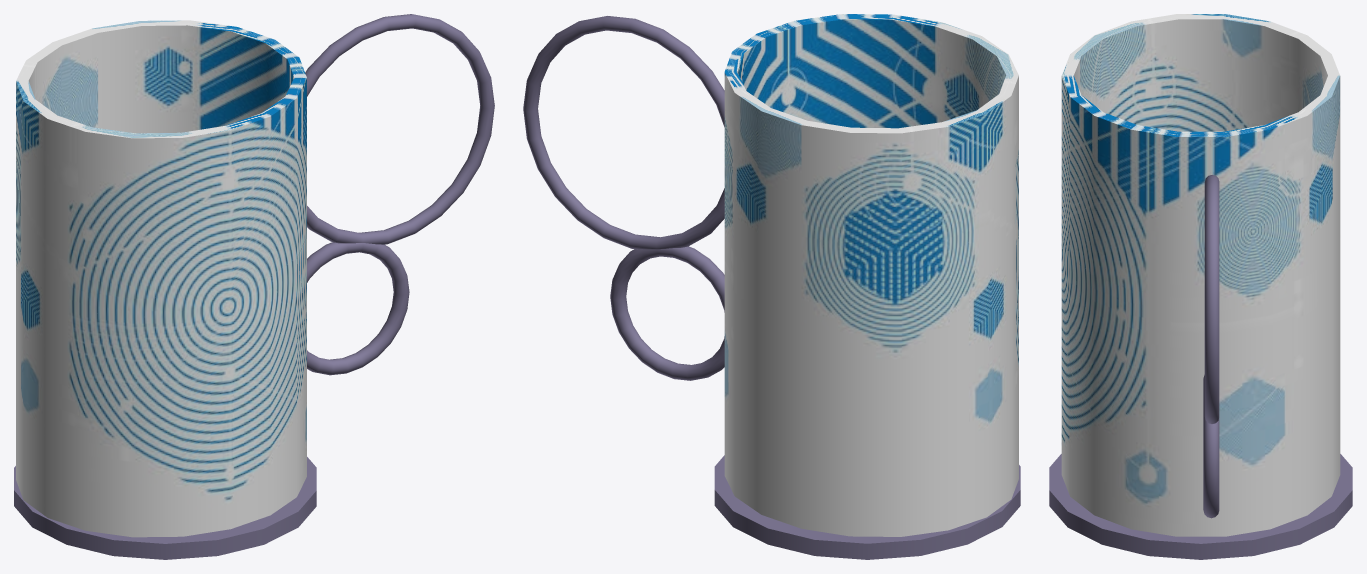
Rendered from cup.gltf.
The picture shows the model from 3 angles, left to right: view 1: azimuth 30°, elevation 25°; view 2: azimuth 150°, elevation 25°; view 3: azimuth 270°, elevation 25°; orthographic projection.
Parts seen in each view (by area): view 1: Tube001, Torus002, Cylinder001, Torus003; view 2: Tube001, Torus002, Cylinder001, Torus003; view 3: Tube001, Cylinder001, Torus002, Torus003.
Boxes of the visible parts, bbox=[...] form: Tube001: bbox=[16, 20, 306, 537]; Torus002: bbox=[305, 14, 494, 244]; Cylinder001: bbox=[14, 457, 316, 559]; Torus003: bbox=[307, 242, 409, 375]; Tube001: bbox=[724, 14, 1018, 536]; Torus002: bbox=[523, 16, 724, 249]; Cylinder001: bbox=[714, 455, 1020, 559]; Torus003: bbox=[610, 246, 724, 380]; Tube001: bbox=[1061, 14, 1340, 536]; Cylinder001: bbox=[1049, 454, 1352, 559]; Torus002: bbox=[1204, 175, 1219, 423]; Torus003: bbox=[1203, 375, 1219, 518].
Size of the model in its own units: 35.6 by 30.48 by 19.98.
Materials: 2 (1 with a texture image).
